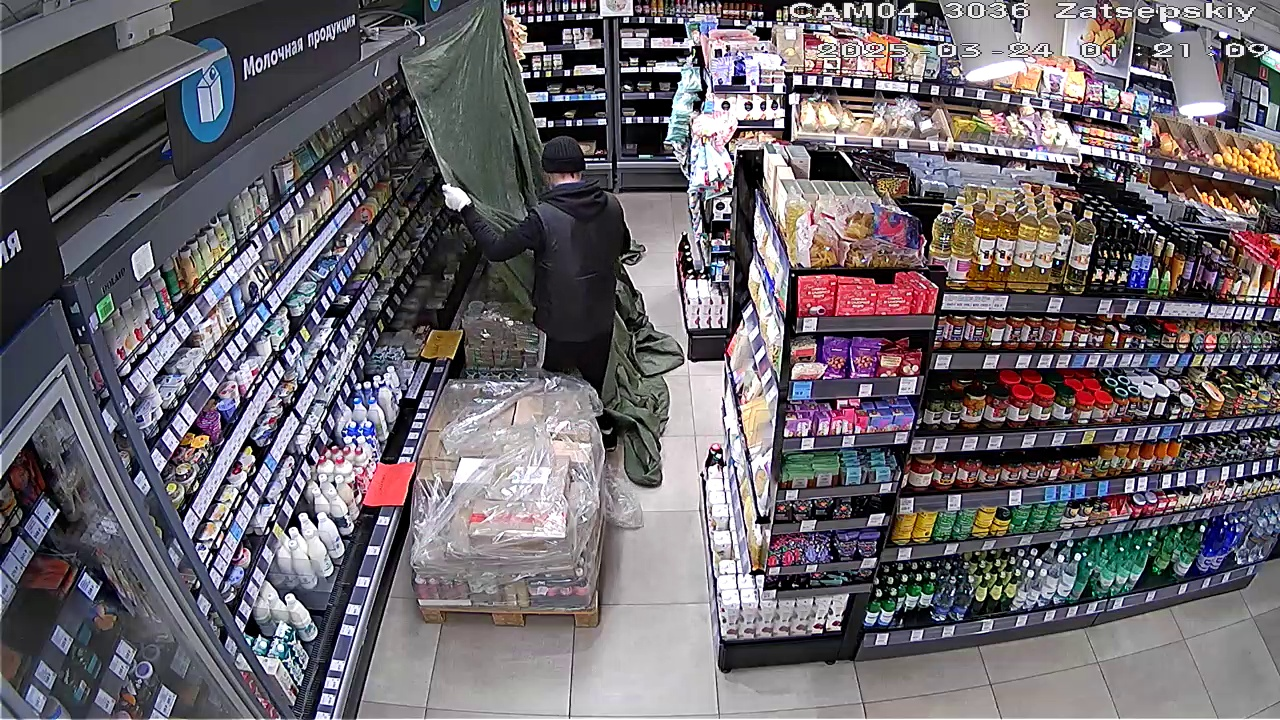Human: (443, 138, 617, 362)
dome: (393, 14, 522, 198)
pallet: (426, 369, 596, 615)
